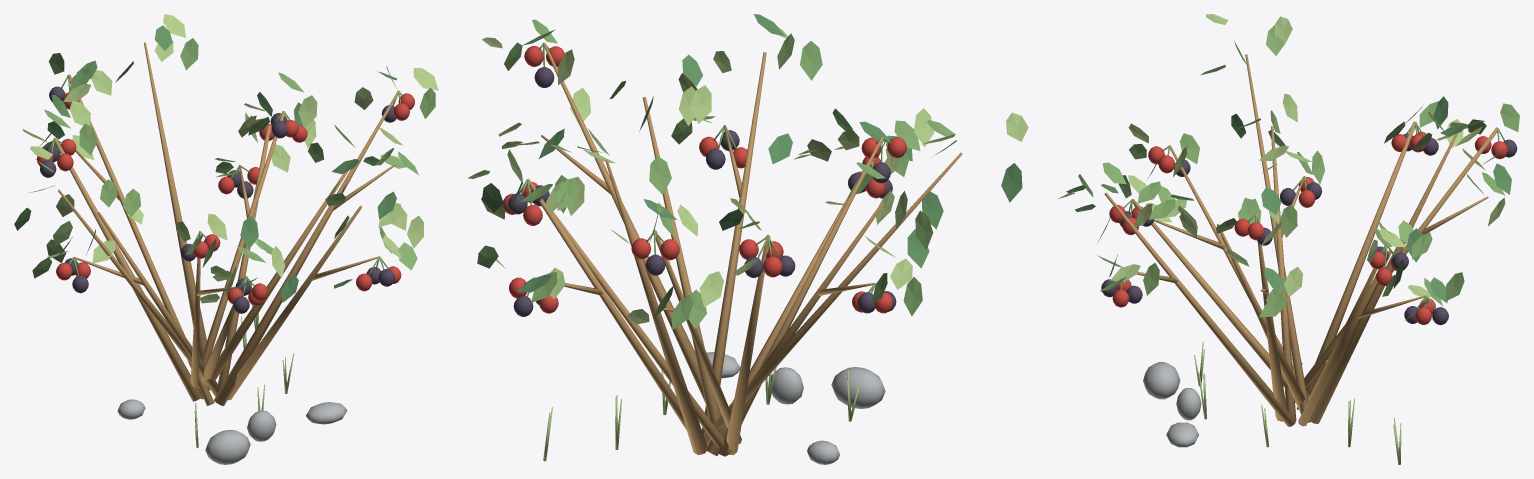
Rendered from berry_bush.glb.
3 views of the same model, side by side, from view 1: azimuth 30°, elevation 25°; view 2: azimuth 150°, elevation 25°; view 3: azimuth 270°, elevation 25° (orthographic). The views are drawn at different scales.
Visible parts, largest first — view 1: berry_bush_stem_0, berry_bush_stem_5, berry_bush_stem_3, berry_bush_stem_10, berry_bush_stem_11, berry_bush_stem_4, berry_bush_stem_1, berry_bush_stem_6, berry_bush_ground_rock_3, berry_bush_stem_7, berry_bush_stem_2, berry_bush_stem_8 (+4 smaller); view 2: berry_bush_stem_3, berry_bush_stem_10, berry_bush_stem_7, berry_bush_stem_0, berry_bush_stem_2, berry_bush_stem_5, berry_bush_stem_1, berry_bush_stem_11, berry_bush_stem_8, berry_bush_ground_rock_3, berry_bush_stem_9, berry_bush_stem_4 (+8 smaller); view 3: berry_bush_stem_10, berry_bush_stem_3, berry_bush_stem_5, berry_bush_stem_7, berry_bush_stem_9, berry_bush_stem_6, berry_bush_stem_2, berry_bush_stem_0, berry_bush_stem_4, berry_bush_stem_11, berry_bush_ground_rock_3, berry_bush_stem_8 (+3 smaller).
Boxes of the visible parts, x1,y1,x2,y2 form: berry_bush_stem_0: (214,91,398,406); berry_bush_stem_5: (53,137,202,401); berry_bush_stem_3: (144,42,210,390); berry_bush_stem_10: (227,205,361,400); berry_bush_stem_11: (198,171,348,399); berry_bush_stem_4: (67,74,214,405); berry_bush_stem_1: (189,111,285,395); berry_bush_stem_6: (97,212,220,396); berry_bush_ground_rock_3: (205,430,250,464); berry_bush_stem_7: (58,189,200,374); berry_bush_stem_2: (218,125,271,387); berry_bush_stem_8: (190,231,200,388); berry_bush_stem_3: (605,160,707,454); berry_bush_stem_10: (702,52,766,433); berry_bush_stem_7: (703,152,962,445); berry_bush_stem_0: (543,43,721,414); berry_bush_stem_2: (539,199,686,430); berry_bush_stem_5: (726,235,770,455); berry_bush_stem_1: (526,178,732,455); berry_bush_stem_11: (642,97,720,423); berry_bush_stem_8: (716,137,883,456); berry_bush_ground_rock_3: (831,367,885,408); berry_bush_stem_9: (705,159,869,456); berry_bush_stem_4: (652,230,741,443); berry_bush_stem_10: (1104,192,1296,426); berry_bush_stem_3: (1310,133,1458,423); berry_bush_stem_5: (1296,121,1416,409); berry_bush_stem_7: (1245,54,1310,422); berry_bush_stem_9: (1131,198,1308,400); berry_bush_stem_6: (1271,126,1296,419); berry_bush_stem_2: (1298,250,1391,426); berry_bush_stem_0: (1255,213,1286,421); berry_bush_stem_4: (1295,127,1499,402); berry_bush_stem_11: (1216,224,1305,413); berry_bush_ground_rock_3: (1143,362,1180,399); berry_bush_stem_8: (1169,145,1309,398).
Bounding box in the file's own units: 1.46 × 0.9913 × 1.31.
